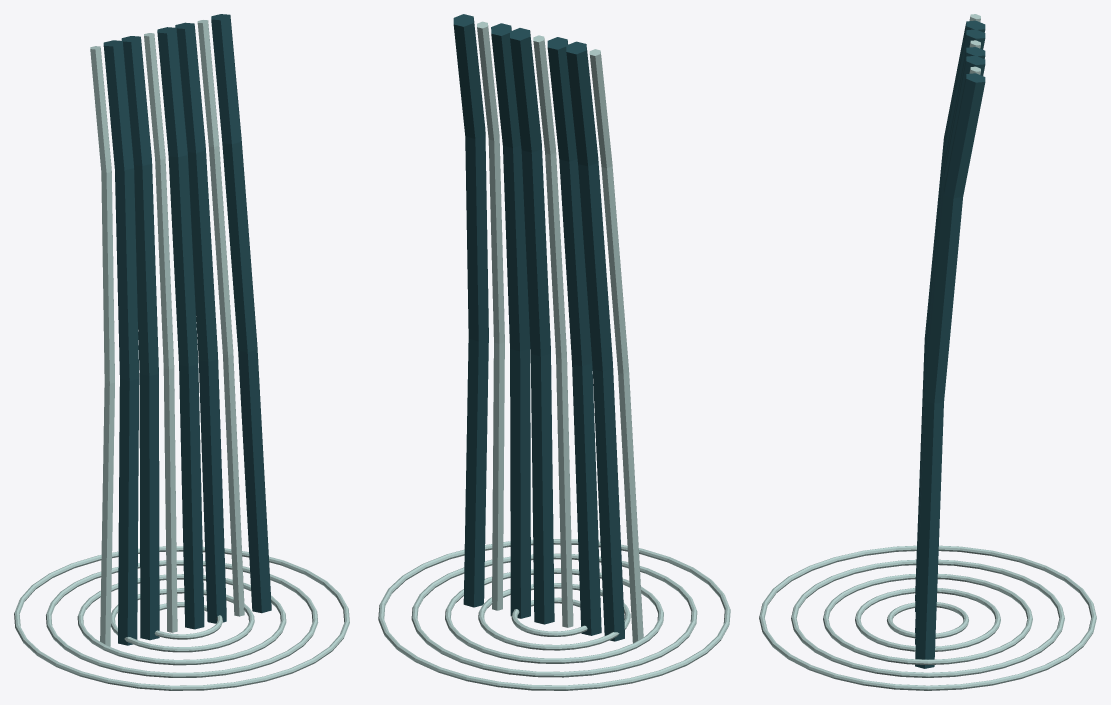
The model's file is waterfall.glb.
3 views of the same model, side by side, from view 1: azimuth 30°, elevation 25°; view 2: azimuth 150°, elevation 25°; view 3: azimuth 270°, elevation 25° (orthographic). The views are drawn at different scales.
Parts seen in each view (by area): view 1: waterfall__waterfall__water, waterfall__waterfall__foam; view 2: waterfall__waterfall__water, waterfall__waterfall__foam; view 3: waterfall__waterfall__water, waterfall__waterfall__foam.
Boxes of the visible parts, x1=… form: waterfall__waterfall__water: x1=103, y1=14, x2=271, y2=645; waterfall__waterfall__foam: x1=14, y1=20, x2=349, y2=690; waterfall__waterfall__water: x1=453, y1=14, x2=624, y2=641; waterfall__waterfall__foam: x1=378, y1=21, x2=730, y2=690; waterfall__waterfall__water: x1=915, y1=20, x2=985, y2=668; waterfall__waterfall__foam: x1=759, y1=14, x2=1096, y2=690.
Size of the model in its own units: 1.06 by 2.01 by 1.06.
